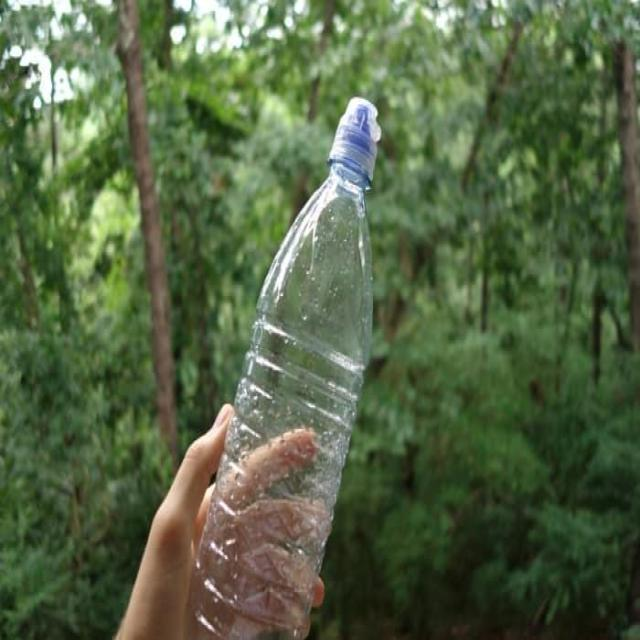bottle: (164, 83, 411, 640)
